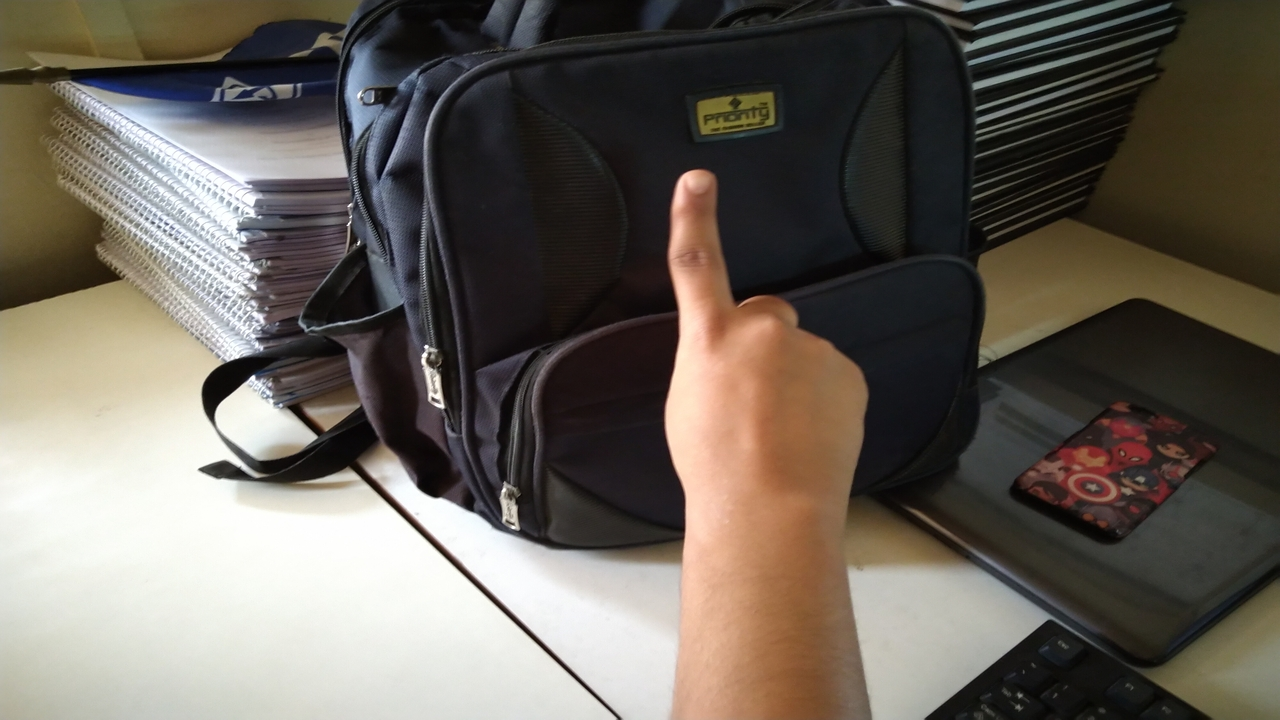fingertip: (666, 160, 728, 216)
